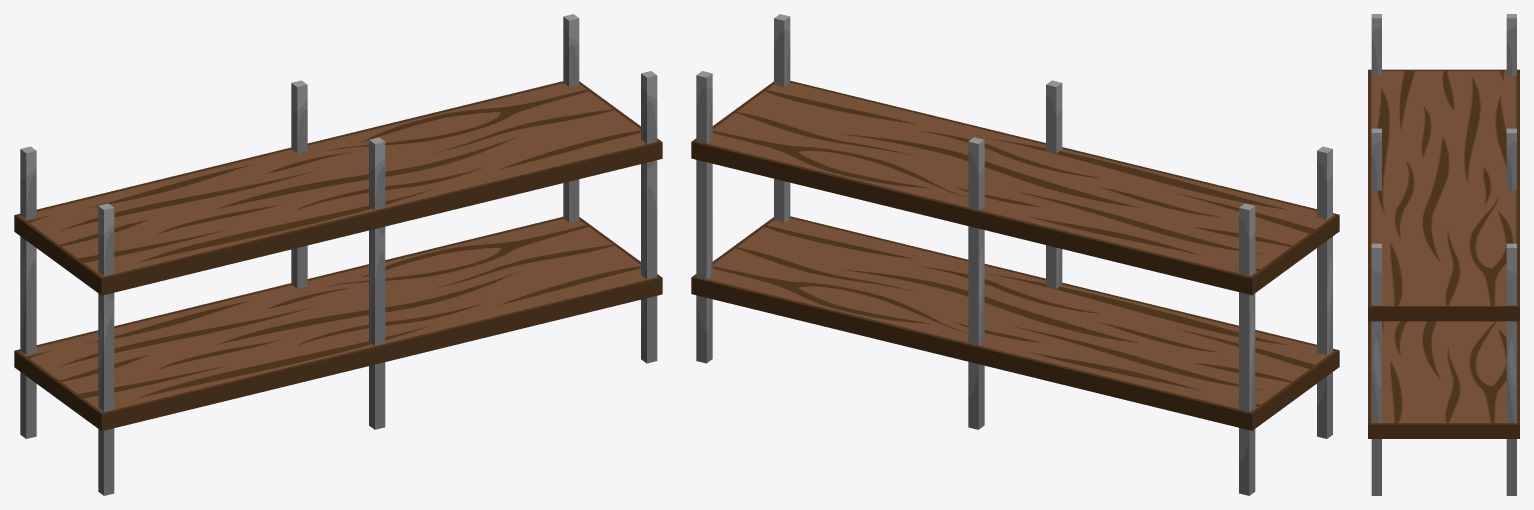
The model's file is Asset_cabinet_empty.fbx.
3 renders of one model, left to right at view 1: azimuth 30°, elevation 25°; view 2: azimuth 150°, elevation 25°; view 3: azimuth 270°, elevation 25°, orthographic. The views are drawn at different scales.
Visible parts, largest first — view 1: Cabinet_Empty_01; view 2: Cabinet_Empty_01; view 3: Cabinet_Empty_01.
Part boxes in pixels (x1,y1,x2,y2): Cabinet_Empty_01: [14, 14, 662, 495]; Cabinet_Empty_01: [691, 14, 1339, 495]; Cabinet_Empty_01: [1368, 14, 1519, 495].
Bounding box in the file's own units: 3.7 × 1.8 × 1.
